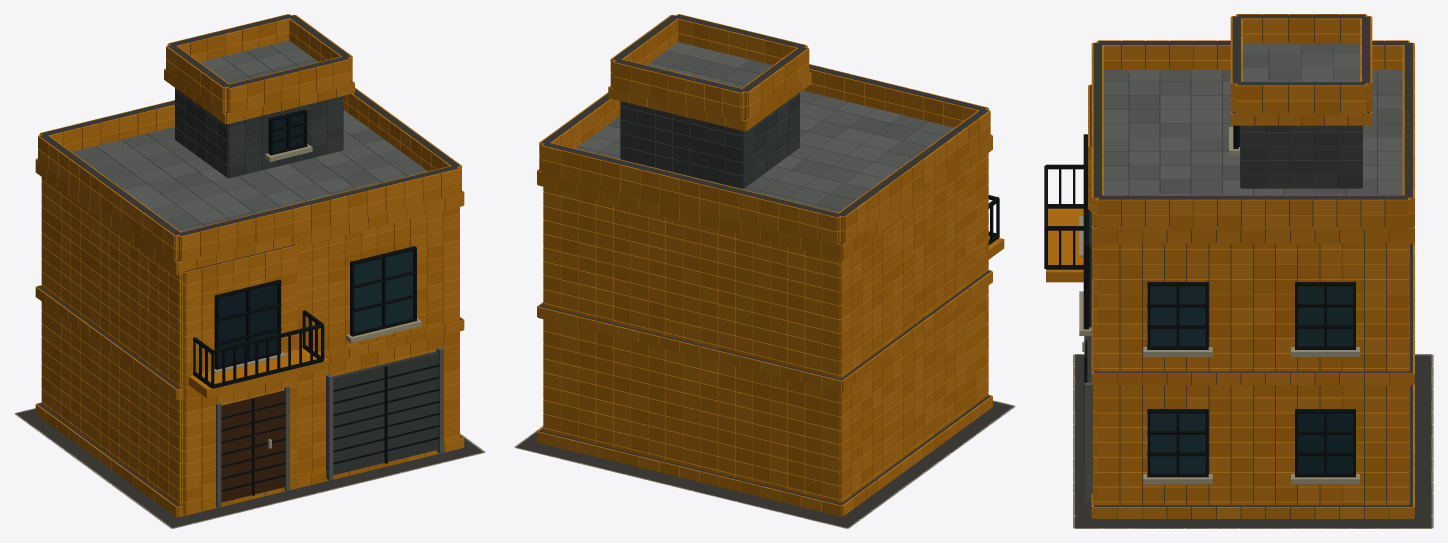
The model's file is SM_Mapa_046.fbx.
The picture shows the model from 3 angles, left to right: view 1: azimuth 30°, elevation 25°; view 2: azimuth 150°, elevation 25°; view 3: azimuth 270°, elevation 25°; orthographic projection. The views are drawn at different scales.
Visible parts, largest first — view 1: SM_Mapa_046; view 2: SM_Mapa_046; view 3: SM_Mapa_046.
Boxes of the visible parts, bbox=[...] form: SM_Mapa_046: bbox=[14, 14, 485, 528]; SM_Mapa_046: bbox=[514, 14, 1015, 528]; SM_Mapa_046: bbox=[1044, 14, 1433, 528].
Size of the model in its own units: 8 by 7.53 by 8.72.
